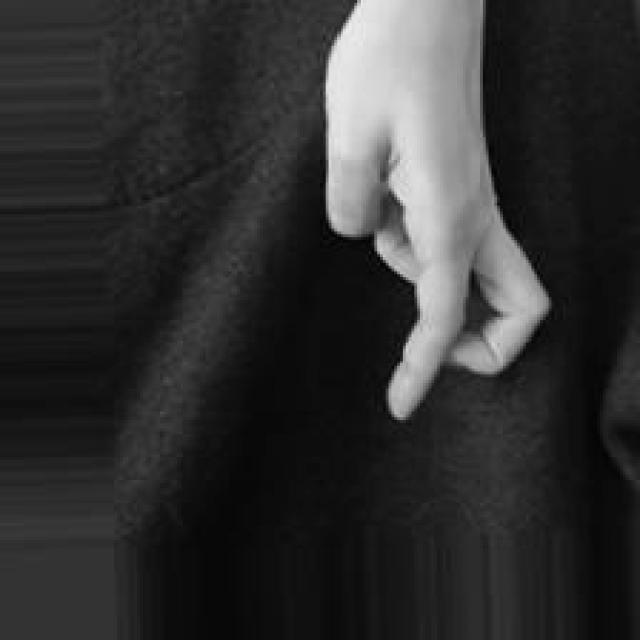P: (313, 0, 556, 436)
